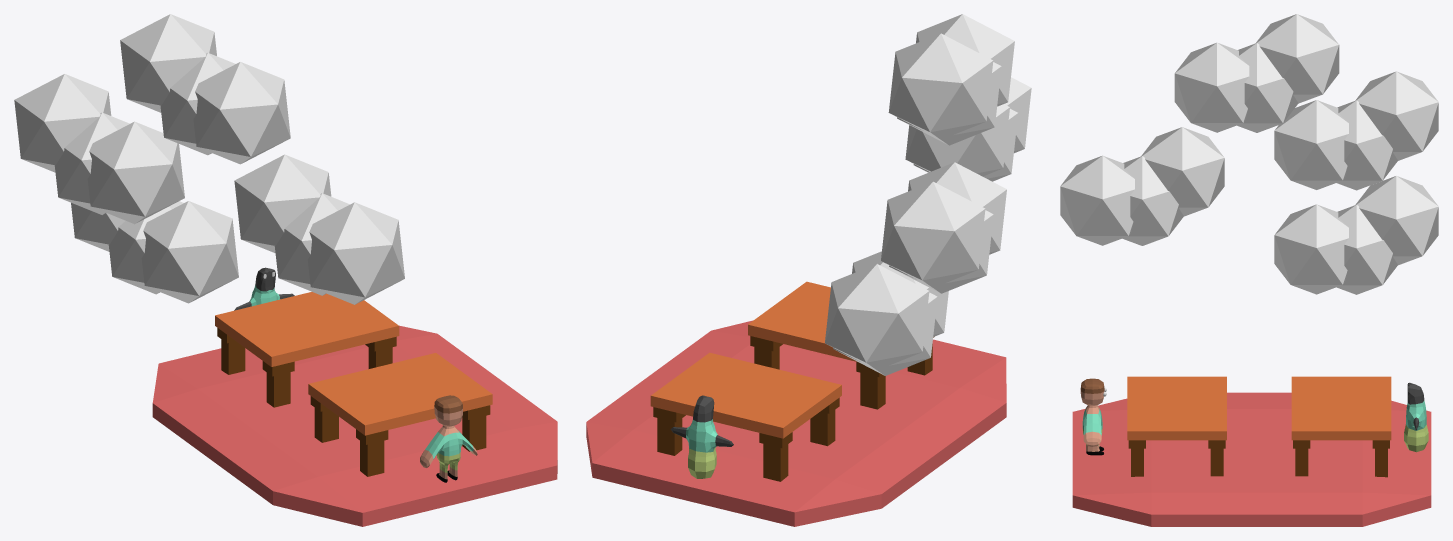
The model's file is stage-CuIJmqMq.glb.
3 renders of one model, left to right at view 1: azimuth 30°, elevation 25°; view 2: azimuth 150°, elevation 25°; view 3: azimuth 270°, elevation 25°, orthographic. The views are drawn at different scales.
Parts seen in each view (by area): view 1: stage; view 2: stage; view 3: stage.
Boxes of the visible parts, bbox=[...] form: stage: bbox=[14, 14, 557, 526]; stage: bbox=[586, 14, 1031, 526]; stage: bbox=[1060, 14, 1438, 526].
Size of the model in its own units: 8.09 by 8.54 by 7.6.
